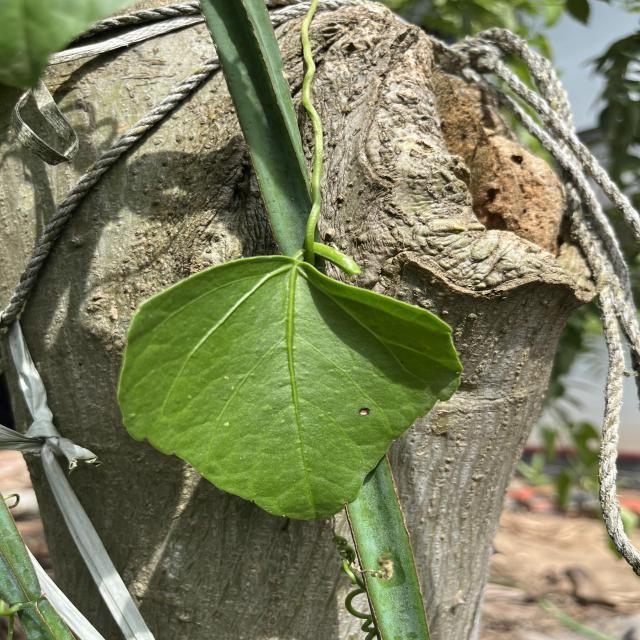Cissus quadrangularis: (112, 252, 467, 524)
